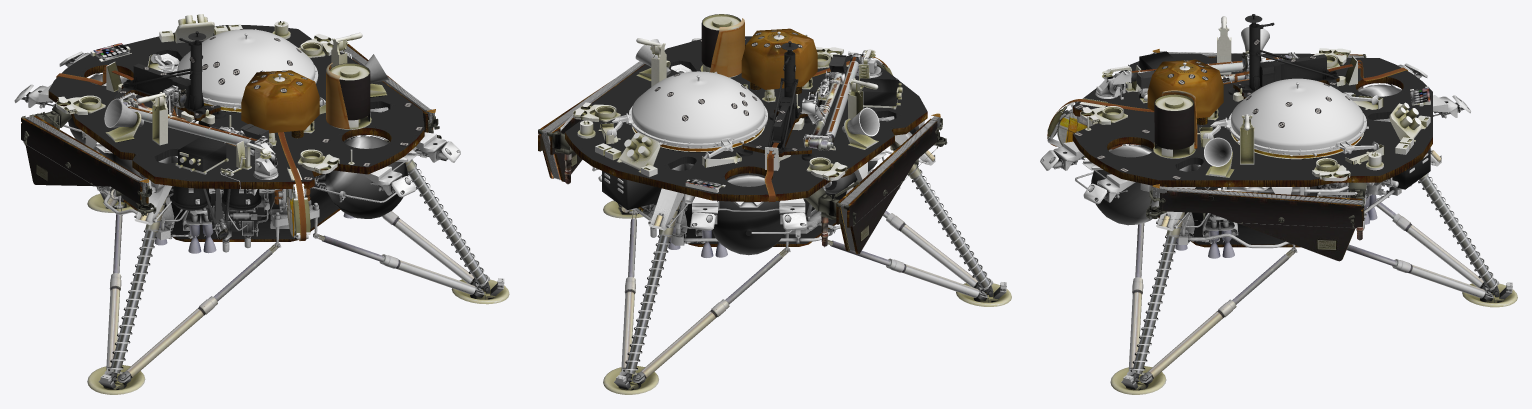
Rendered from InSight Cruise Lander (panels stowed).glb.
The picture shows the model from 3 angles, left to right: view 1: azimuth 30°, elevation 25°; view 2: azimuth 150°, elevation 25°; view 3: azimuth 270°, elevation 25°; orthographic projection. The views are drawn at different scales.
Visible parts, largest first — view 1: deck, leg_l, WTS, leg_r, panel_l.033, SEIS, HP3_v3d_baked, UHF_antenna, RISE_antennas, arm_02, TWINS, cable_01 (+3 smaller); view 2: deck, WTS, leg_b, leg_l, SEIS, panel_l.033, HP3_v3d_baked, UHF_antenna, RISE_antennas, TWINS, arm_02, arm_03 (+3 smaller); view 3: deck, WTS, Cube.066, leg_r, leg_b, HP3_v3d_baked, SEIS, UHF_antenna, RISE_antennas, TWINS, arm_02, Cube.075.
Part boxes in pixels (box(x1,y1,x2,y2)): deck: box(14, 14, 460, 253); leg_l: box(87, 194, 280, 394); WTS: box(158, 29, 318, 110); leg_r: box(313, 139, 509, 304); panel_l.033: box(21, 116, 156, 216); SEIS: box(241, 70, 319, 138); HP3_v3d_baked: box(113, 31, 225, 121); UHF_antenna: box(326, 62, 371, 129); RISE_antennas: box(104, 54, 389, 142); arm_02: box(118, 92, 275, 165); TWINS: box(136, 32, 362, 145); cable_01: box(278, 132, 306, 240); deck: box(555, 34, 935, 257); WTS: box(612, 71, 767, 151); leg_b: box(603, 201, 789, 394); leg_l: box(827, 141, 1011, 306); SEIS: box(741, 28, 817, 94); panel_l.033: box(843, 121, 947, 254); HP3_v3d_baked: box(737, 41, 816, 160); UHF_antenna: box(700, 14, 744, 77); RISE_antennas: box(635, 39, 879, 149); TWINS: box(636, 38, 878, 118); arm_02: box(803, 51, 862, 150); arm_03: box(803, 70, 844, 150); deck: box(1040, 48, 1470, 258); WTS: box(1210, 78, 1368, 156); Cube.066: box(1146, 191, 1364, 261); leg_r: box(1110, 212, 1296, 394); leg_b: box(1346, 173, 1517, 307); HP3_v3d_baked: box(1228, 14, 1339, 103); SEIS: box(1147, 59, 1223, 124); UHF_antenna: box(1153, 90, 1197, 158); RISE_antennas: box(1204, 27, 1269, 177); TWINS: box(1217, 16, 1254, 164); arm_02: box(1107, 52, 1298, 94); Cube.075: box(1155, 188, 1361, 204).
Bounding box in the file's own units: 2.47 × 1.58 × 2.56.
Materials: 11 (10 with a texture image).
